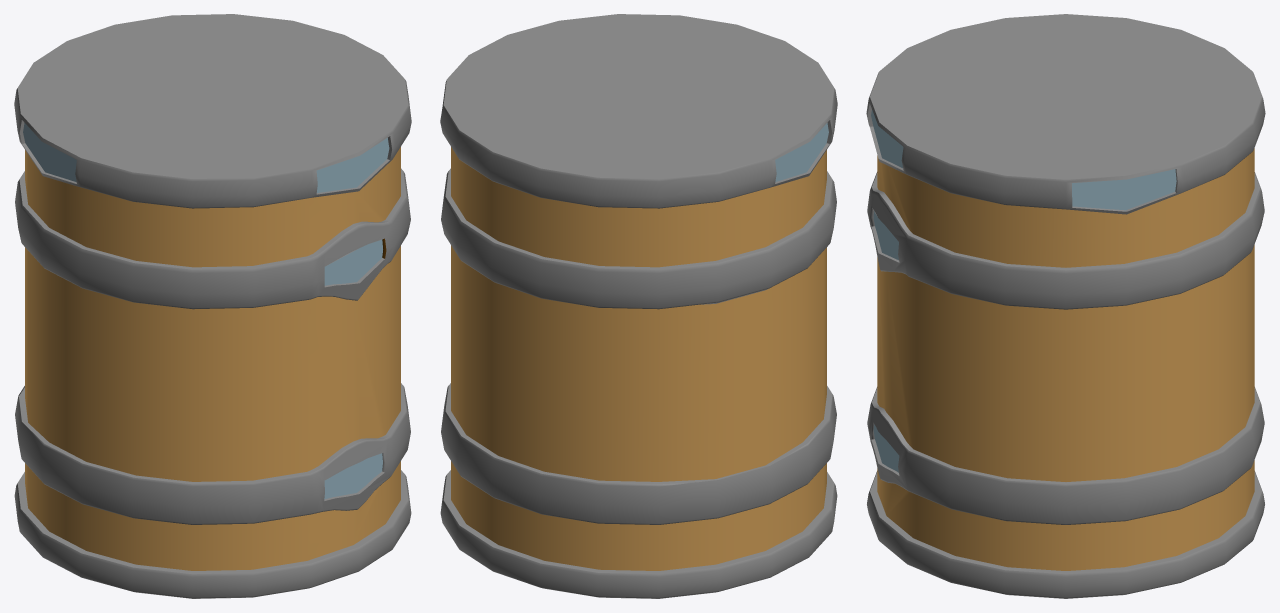
The model's file is Barrel3_colourcoded.fbx.
3 renders of one model, left to right at view 1: azimuth 30°, elevation 25°; view 2: azimuth 150°, elevation 25°; view 3: azimuth 270°, elevation 25°, orthographic.
Parts seen in each view (by area): view 1: Barrel; view 2: Barrel; view 3: Barrel.
Boxes of the visible parts, x1,y1,x2,y2 form: Barrel: (14,14,411,598); Barrel: (440,14,837,598); Barrel: (866,14,1265,598).
Size of the model in its own units: 2.11 by 2.47 by 2.12.
